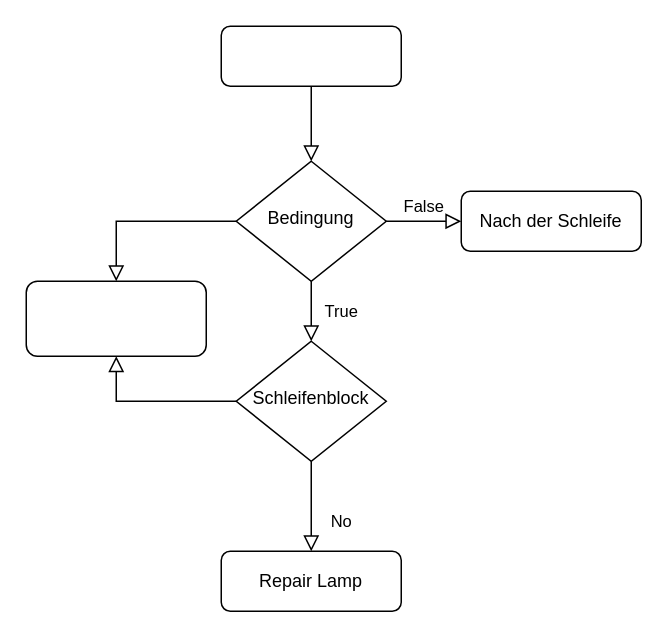
Image size: 668x638. Some labels were removed from this diagram. The shapes that lost their labels are listed below. From the top down, each one's centre as x and y in pixels, then its label:
At point (310, 55): "Anweisungsblock".
At point (115, 318): "Laufvariablen aktualisieren".
